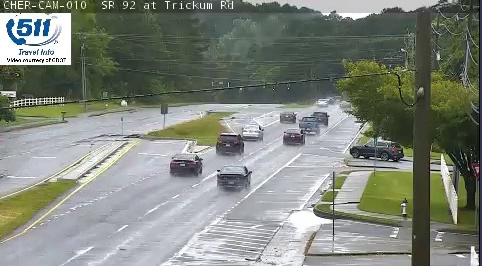car: (216, 166, 250, 189), (170, 153, 202, 174), (216, 133, 243, 152), (282, 129, 304, 144), (299, 116, 319, 132), (242, 124, 262, 140), (312, 111, 328, 125), (280, 112, 295, 123)
